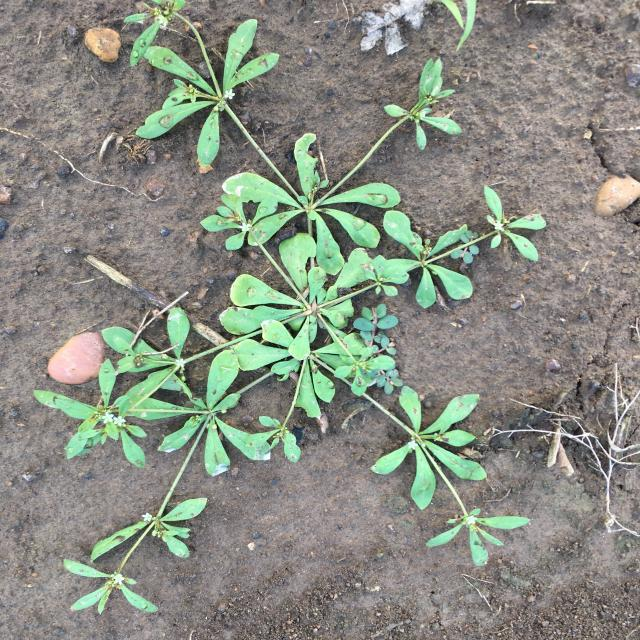Carpetweed: (33, 0, 547, 615)
